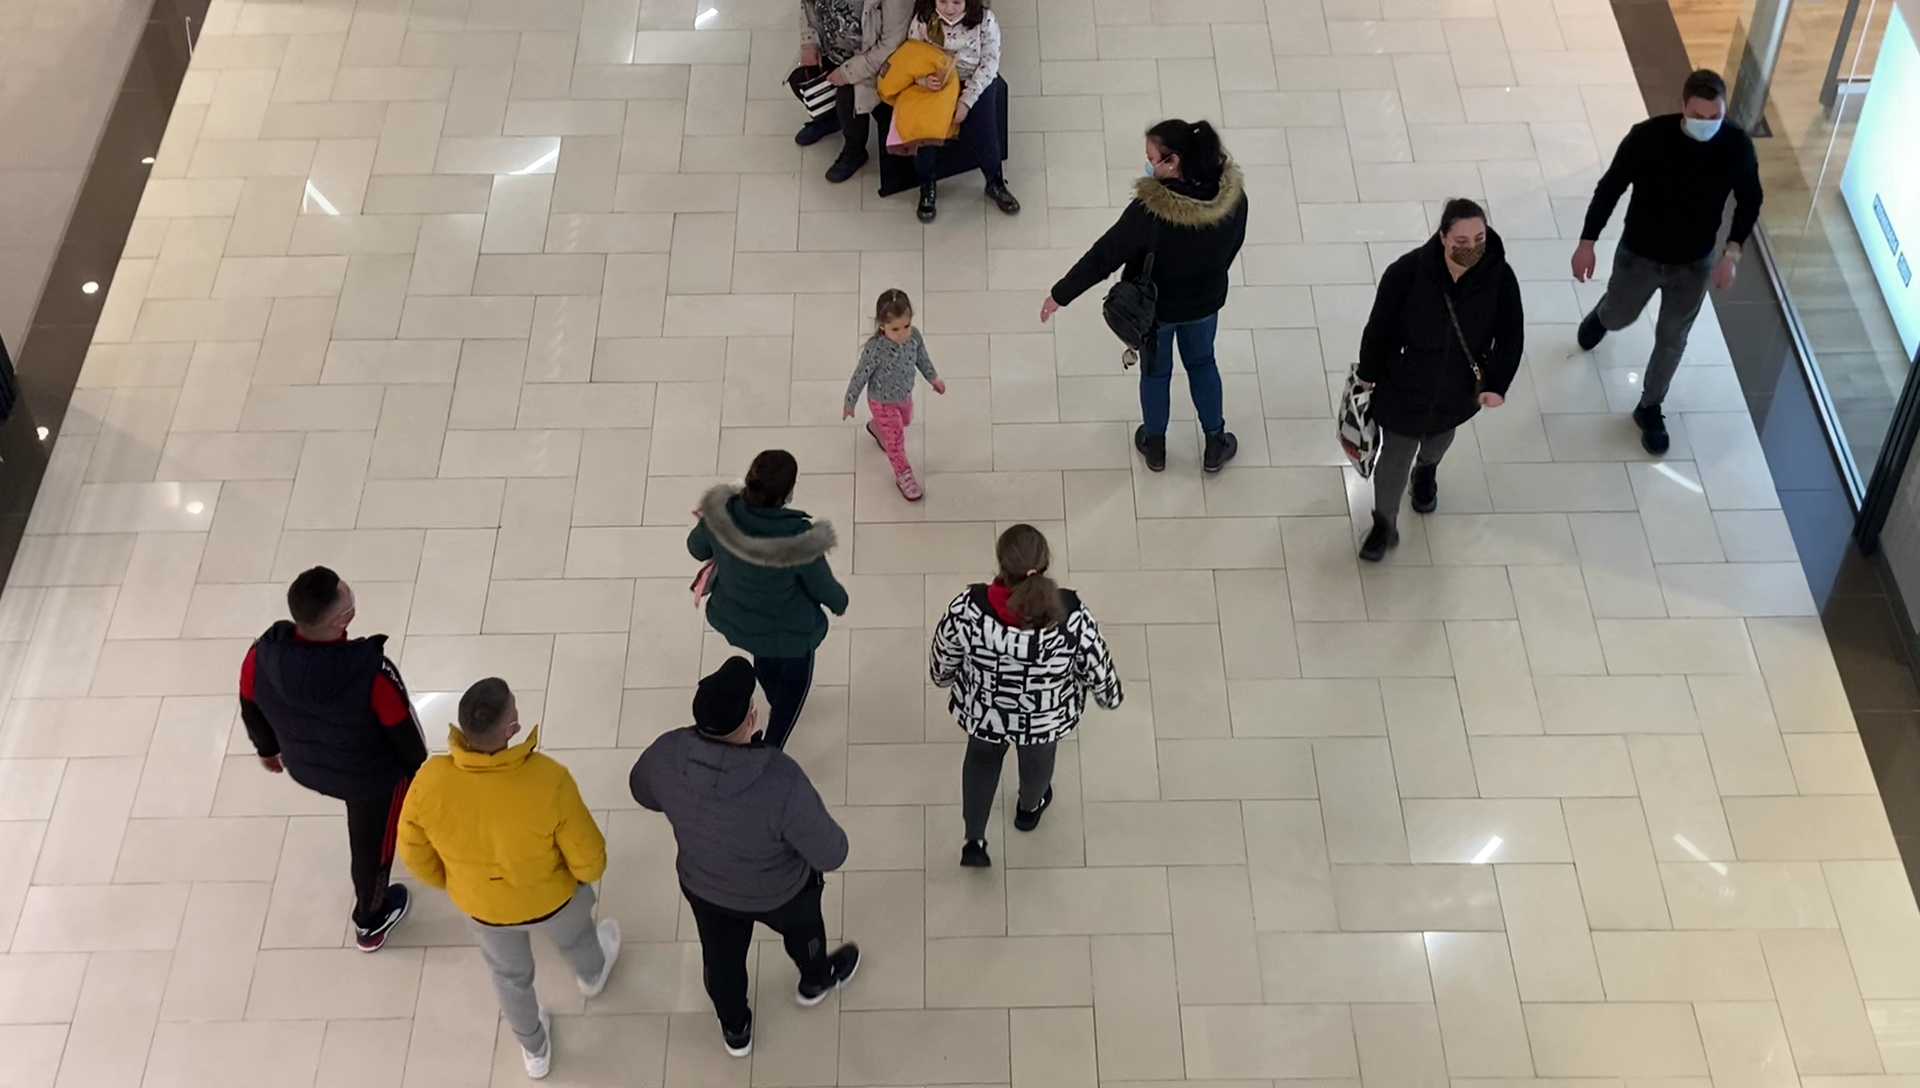person: (628, 674, 866, 1057), (395, 679, 623, 1079), (1569, 69, 1764, 456), (1043, 119, 1249, 474), (240, 567, 424, 955), (931, 522, 1127, 871), (1355, 200, 1523, 566), (690, 448, 849, 674), (843, 288, 949, 501)
